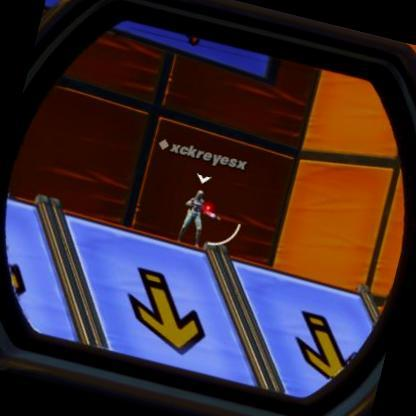person: (174, 191, 216, 250)
